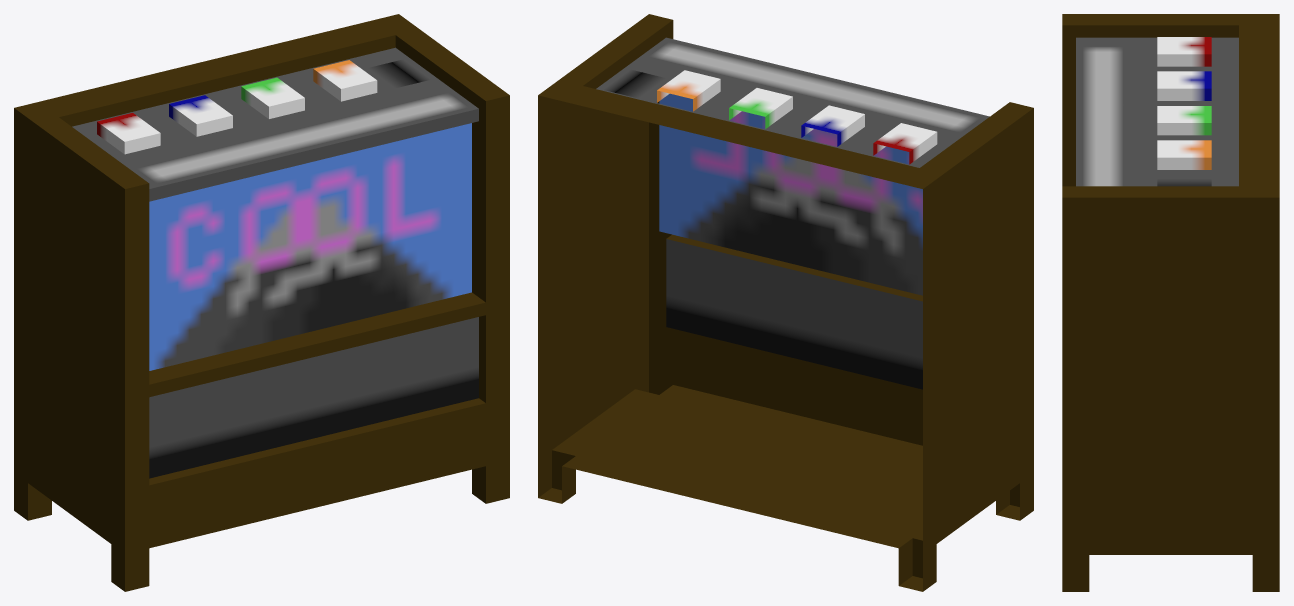
Rendered from VendingMachine02.fbx.
The picture shows the model from 3 angles, left to right: view 1: azimuth 30°, elevation 25°; view 2: azimuth 150°, elevation 25°; view 3: azimuth 270°, elevation 25°; orthographic projection. The views are drawn at different scales.
Visible parts, largest first — view 1: Matrix; view 2: Matrix; view 3: Matrix.
Boxes of the visible parts, box(x1,y1,x2,y2) form: Matrix: box(14, 14, 509, 591); Matrix: box(538, 14, 1033, 591); Matrix: box(1062, 14, 1279, 591).
Size of the model in its own units: 32 by 32 by 16.
